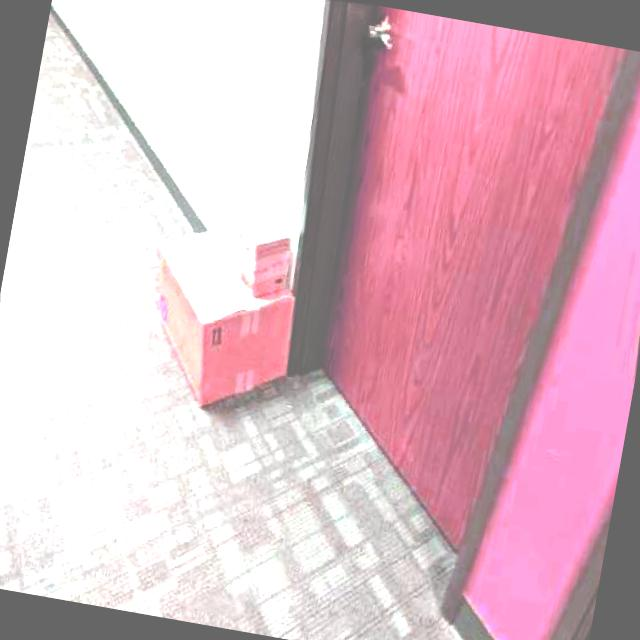Box: (124, 205, 319, 427), (210, 196, 307, 306)
